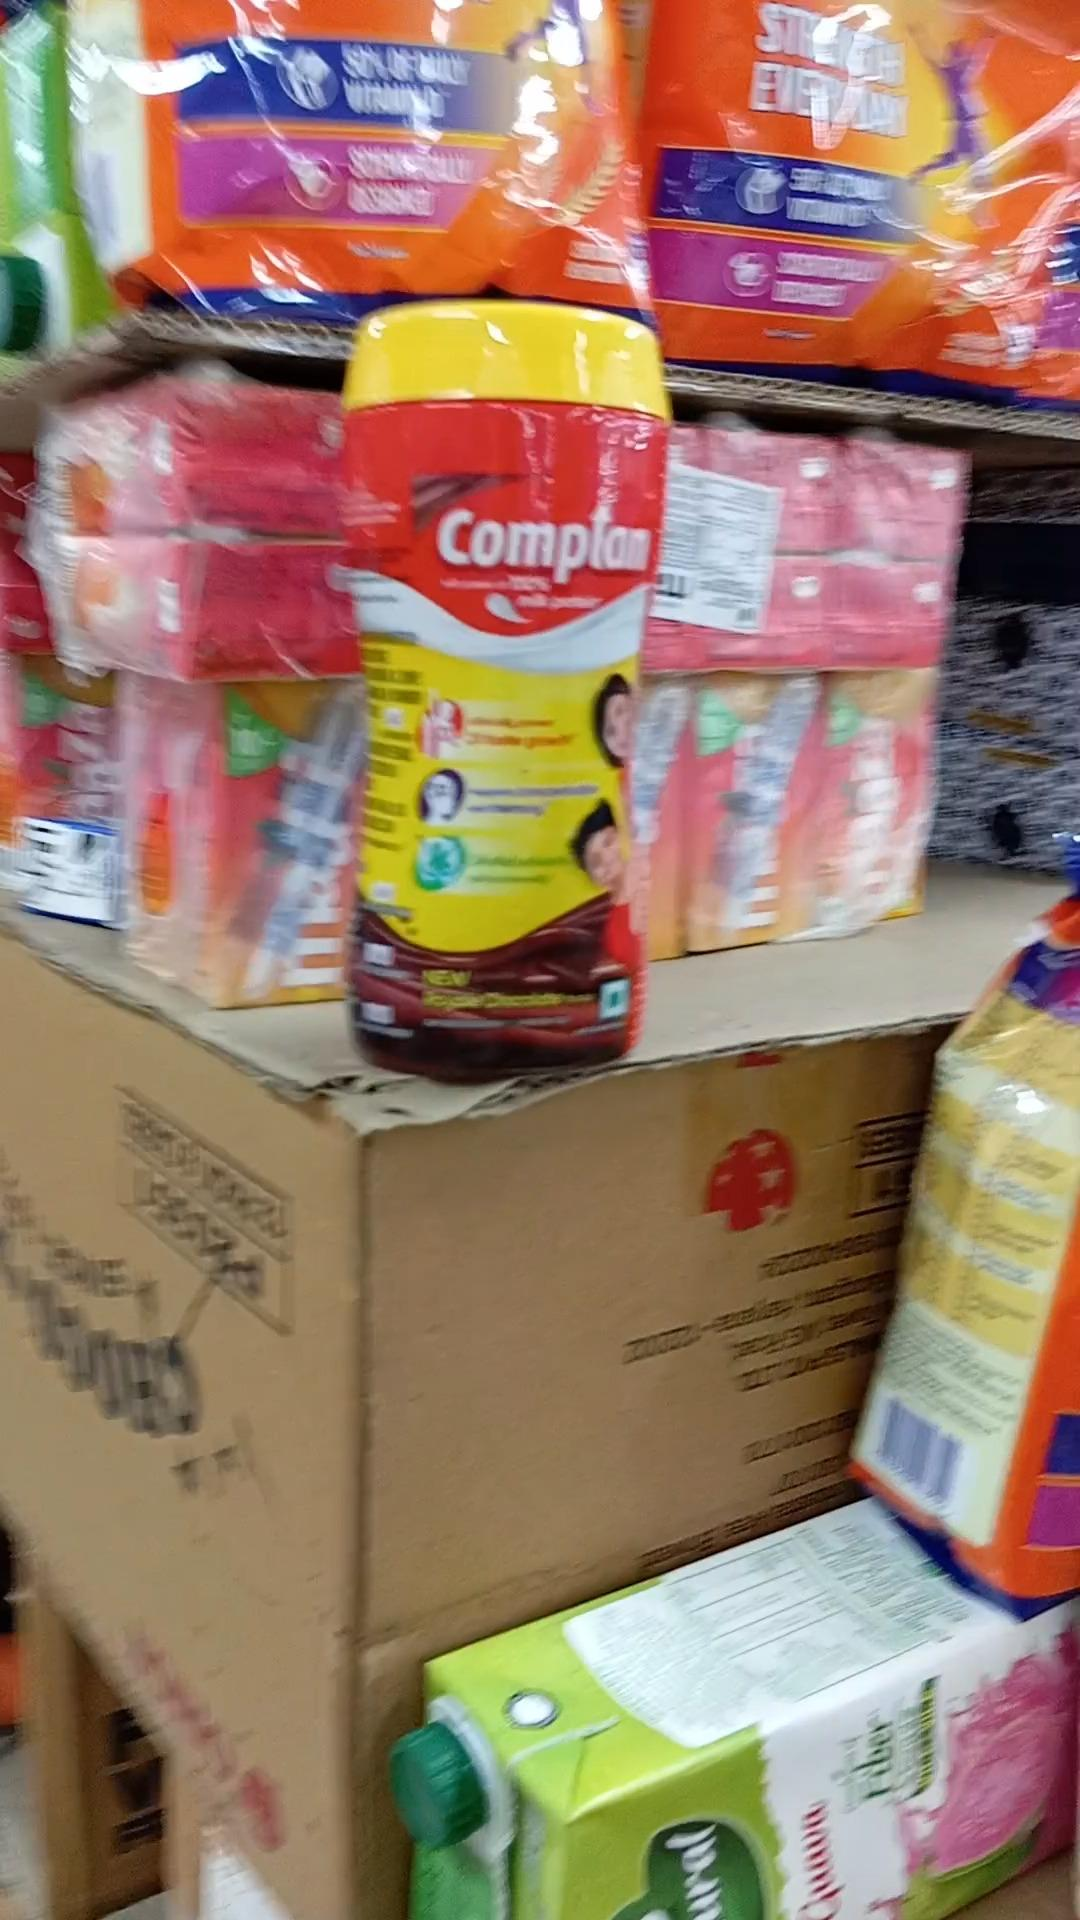COMPLAN_CHOCOLATE_200_GMS_JAR: (348, 302, 646, 1063)
